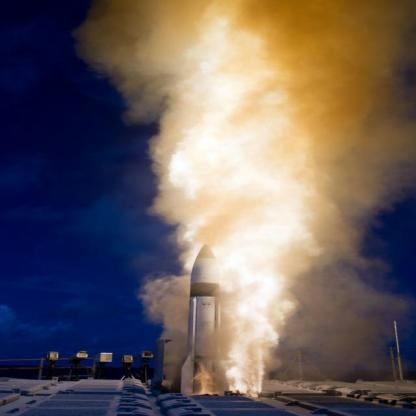MIL_TBM: (181, 244, 227, 396)
